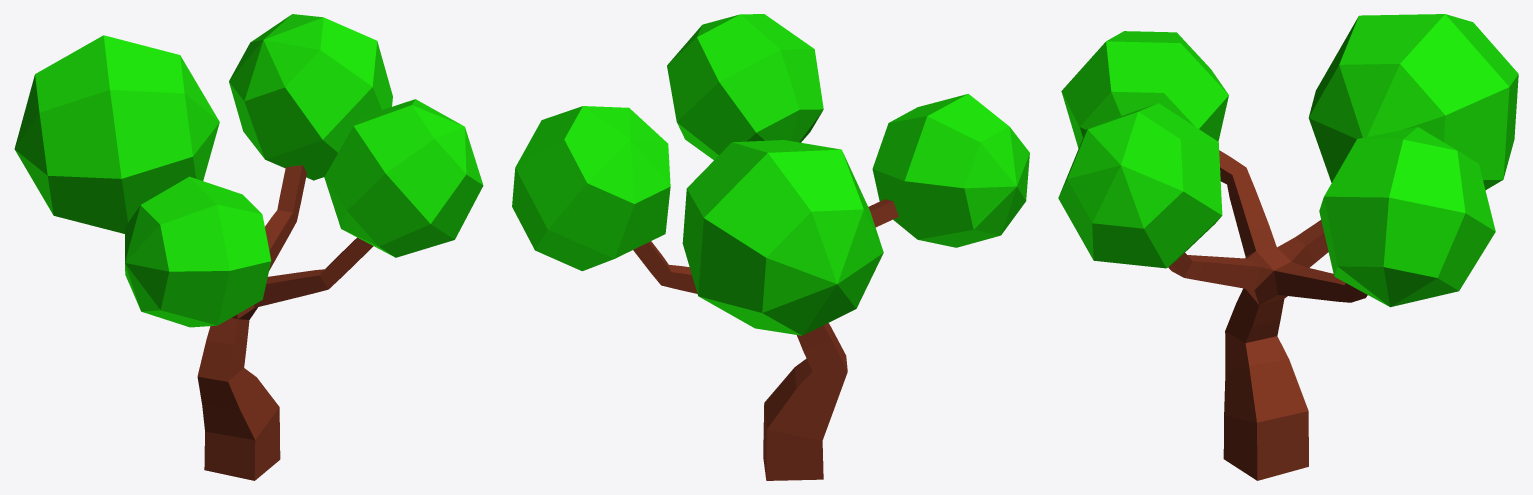
The model's file is Arbol_2.fbx.
3 renders of one model, left to right at view 1: azimuth 30°, elevation 25°; view 2: azimuth 150°, elevation 25°; view 3: azimuth 270°, elevation 25°, orthographic. The views are drawn at different scales.
Parts seen in each view (by area): view 1: Sphere.003, Sphere.004, Sphere.006, Sphere.002, Cube; view 2: Sphere.003, Sphere.004, Sphere.002, Sphere.006, Cube; view 3: Sphere.003, Sphere.004, Cube, Sphere.006, Sphere.002.
Part boxes in pixels (x1,y1,x2,y2): Sphere.003: [14, 35, 219, 233]; Sphere.004: [229, 14, 392, 180]; Sphere.006: [324, 99, 483, 257]; Sphere.002: [125, 176, 271, 327]; Cube: [197, 165, 373, 480]; Sphere.003: [682, 140, 883, 335]; Sphere.004: [512, 106, 670, 271]; Sphere.002: [872, 94, 1029, 247]; Sphere.006: [667, 14, 823, 159]; Cube: [633, 199, 898, 480]; Sphere.003: [1308, 14, 1518, 190]; Sphere.004: [1319, 127, 1495, 307]; Cube: [1168, 150, 1367, 480]; Sphere.006: [1058, 103, 1222, 268]; Sphere.002: [1061, 31, 1228, 148].
Bounding box in the file's own units: 1.86 × 1.82 × 1.82.
